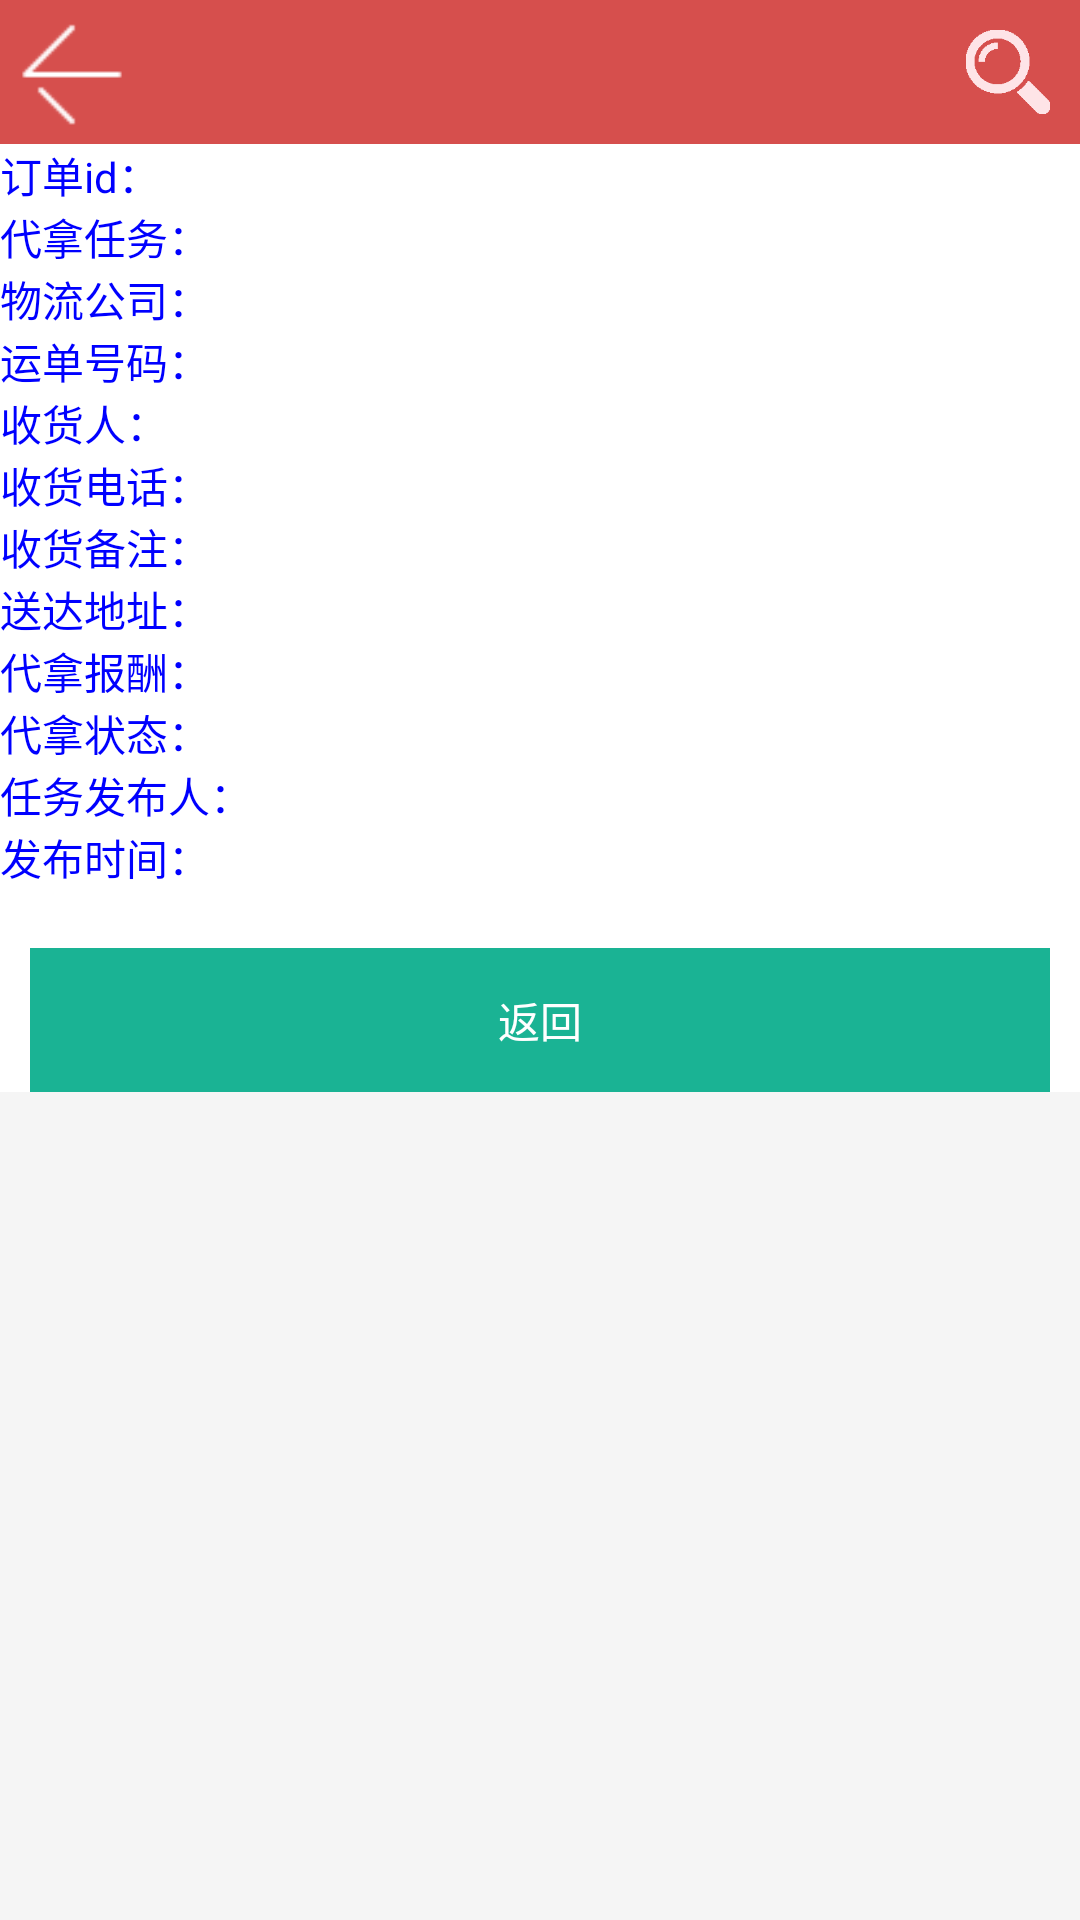

Icons on this 1080x1920 Android screen, each with the point to tap as [x,y]:
left: [72,75]
search: [1008,72]
